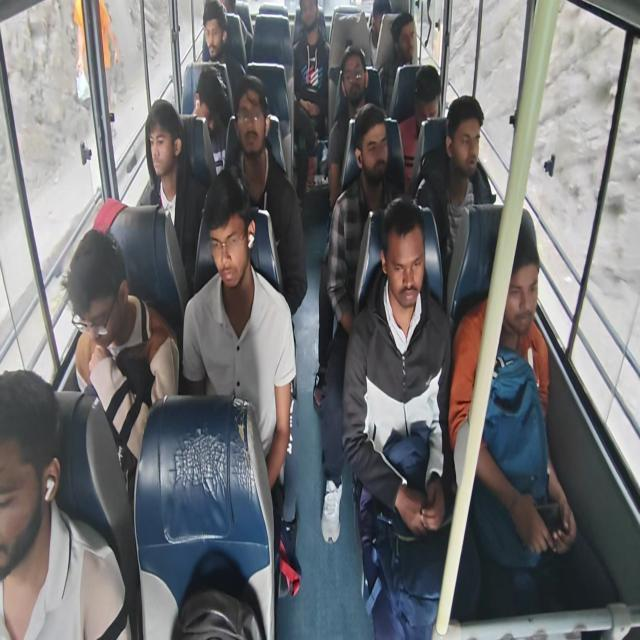person: (341, 195, 481, 638), (448, 208, 578, 616), (180, 169, 300, 593), (314, 102, 404, 543), (0, 368, 132, 639), (62, 227, 179, 498), (223, 74, 308, 318), (412, 94, 496, 286), (143, 98, 206, 294), (326, 45, 376, 212), (292, 0, 329, 196), (72, 0, 120, 138), (398, 64, 441, 186), (200, 0, 245, 116), (192, 66, 230, 175), (378, 12, 416, 112), (368, 0, 391, 67)
